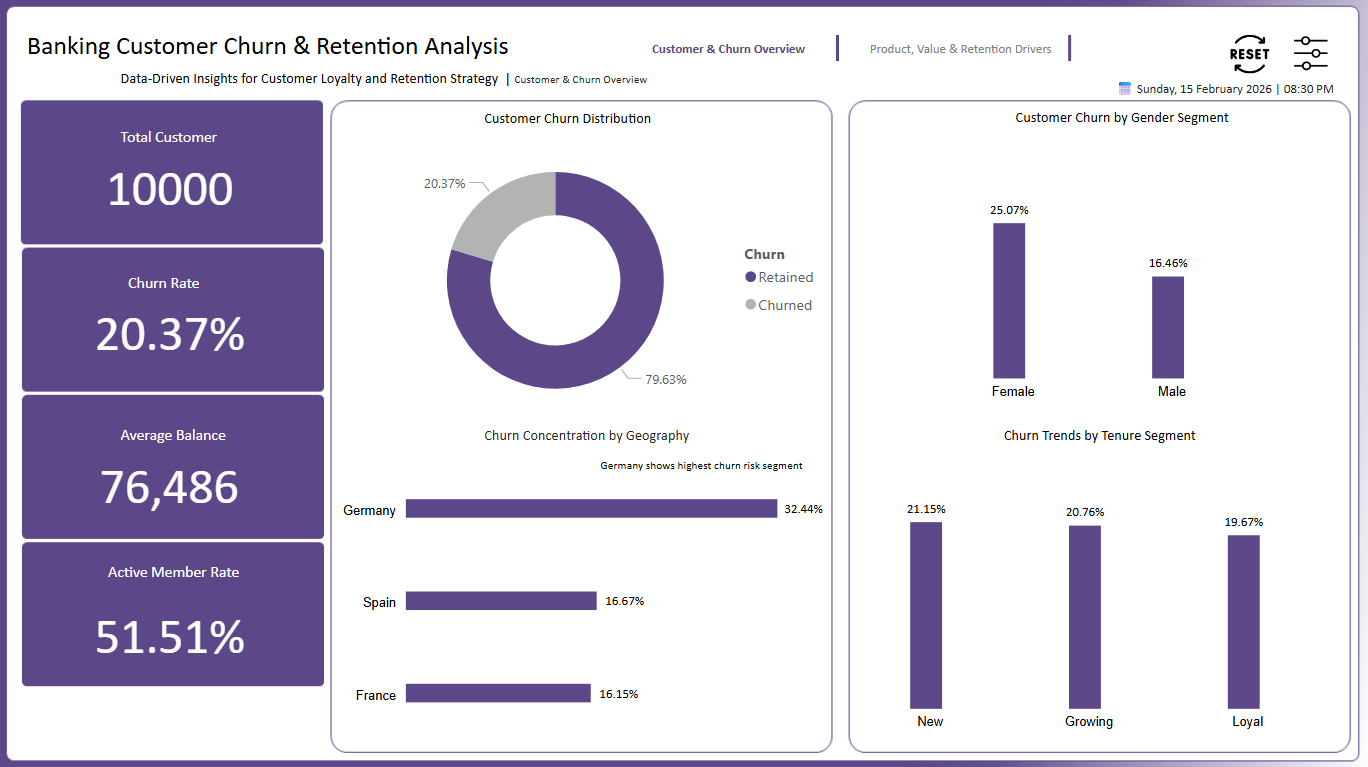

This screenshot's page, from the dashboard's own definition file:
{"tool":"powerbi","page":{"name":" Customer & Churn Overview","canvas":[1280,720],"ordinal":0},"visuals":[{"type":"image","box":[0,0,1280.3,720.4],"z":0},{"type":"textbox","box":[26.1,26.1,495.4,45.3],"z":1000},{"type":"textbox","box":[112.5,61.7,638.1,53.5],"z":2000},{"type":"textbox","box":[451.5,98.8,188,34.3],"z":4000},{"type":"textbox","box":[451.5,393.8,249.7,34.3],"z":5000},{"type":"textbox","box":[945.5,97.4,225,34.3],"z":6000},{"type":"textbox","box":[931.7,393.8,214.1,34.3],"z":7000},{"type":"textbox","box":[112.5,116.6,119.4,35.7],"z":8000},{"type":"textbox","box":[119.4,252.5,119.4,35.7],"z":9000},{"type":"textbox","box":[112.5,393.8,119.4,35.7],"z":10000},{"type":"textbox","box":[101.5,521.4,152.3,41.2],"z":11000},{"type":"card","fields":{"Values":["KPIs.Total Customers"]},"box":[87.8,134.5,150.9,81],"z":12000},{"type":"card","fields":{"Values":["KPIs.Churn Rate"]},"box":[87.8,270.3,150.9,81],"z":13000},{"type":"card","fields":{"Values":["KPIs.Avg Balance"]},"box":[61.7,411.7,203.1,81],"z":14000},{"type":"card","fields":{"Values":["KPIs.Active Member Rate"]},"box":[87.8,551.6,150.9,81],"z":15000},{"type":"donutChart","fields":{"Category":["Bank Customer Churn Prediction.Churn"],"Y":["Count(Bank Customer Churn Prediction.customer_id)"]},"box":[341.7,115.3,435,299.1],"z":16000},{"type":"barChart","fields":{"Category":["Bank Customer Churn Prediction.country"],"Y":["KPIs.Churn Rate"]},"box":[315.6,421.3,461.1,279.9],"z":17000},{"type":"columnChart","fields":{"Category":["Bank Customer Churn Prediction.gender"],"Y":["KPIs.Churn Rate"]},"box":[791.4,174.9,460.6,209.5],"z":18000},{"type":"columnChart","fields":{"Category":["Bank Customer Churn Prediction.Tenure Group"],"Y":["KPIs.Churn Rate"]},"box":[787.9,452,460.6,239],"z":19000},{"type":"image","box":[1195.9,36.2,59.3,34.7],"z":20000},{"type":"image","box":[1140.9,36.2,54.9,36.2],"z":21000},{"type":"pageNavigator","box":[580.2,36,422.1,25.6],"z":23000},{"type":"card","fields":{"Values":["KPIs.Report Last Refreshed"]},"box":[1024.4,72.1,241.9,32.6],"z":24000},{"type":"textbox","box":[559.3,420.9,214,34.9],"z":24001}]}

Visuals, with their boxes in screenshot pixels (x1, y1, x2, y2), scaled from the page's 1280x720 canvas onto the 1368x767 screenshot:
image: x1=0 y1=0 x2=1367 y2=766
textbox: x1=28 y1=28 x2=557 y2=76
textbox: x1=120 y1=66 x2=802 y2=123
textbox: x1=483 y1=105 x2=683 y2=142
textbox: x1=483 y1=420 x2=749 y2=456
textbox: x1=1011 y1=104 x2=1251 y2=140
textbox: x1=996 y1=420 x2=1225 y2=456
textbox: x1=120 y1=124 x2=248 y2=162
textbox: x1=128 y1=269 x2=255 y2=307
textbox: x1=120 y1=420 x2=248 y2=458
textbox: x1=108 y1=555 x2=271 y2=599
card - KPIs.Total Customers: x1=94 y1=143 x2=255 y2=230
card - KPIs.Churn Rate: x1=94 y1=288 x2=255 y2=374
card - KPIs.Avg Balance: x1=66 y1=439 x2=283 y2=525
card - KPIs.Active Member Rate: x1=94 y1=588 x2=255 y2=674
donutChart - Bank Customer Churn Prediction.Churn x Count(Bank Customer Churn Prediction.customer_id): x1=365 y1=123 x2=830 y2=441
barChart - Bank Customer Churn Prediction.country x KPIs.Churn Rate: x1=337 y1=449 x2=830 y2=747
columnChart - Bank Customer Churn Prediction.gender x KPIs.Churn Rate: x1=846 y1=186 x2=1338 y2=409
columnChart - Bank Customer Churn Prediction.Tenure Group x KPIs.Churn Rate: x1=842 y1=482 x2=1334 y2=736
image: x1=1278 y1=39 x2=1341 y2=76
image: x1=1219 y1=39 x2=1278 y2=77
pageNavigator: x1=620 y1=38 x2=1071 y2=66
card - KPIs.Report Last Refreshed: x1=1095 y1=77 x2=1353 y2=112
textbox: x1=598 y1=448 x2=826 y2=486
